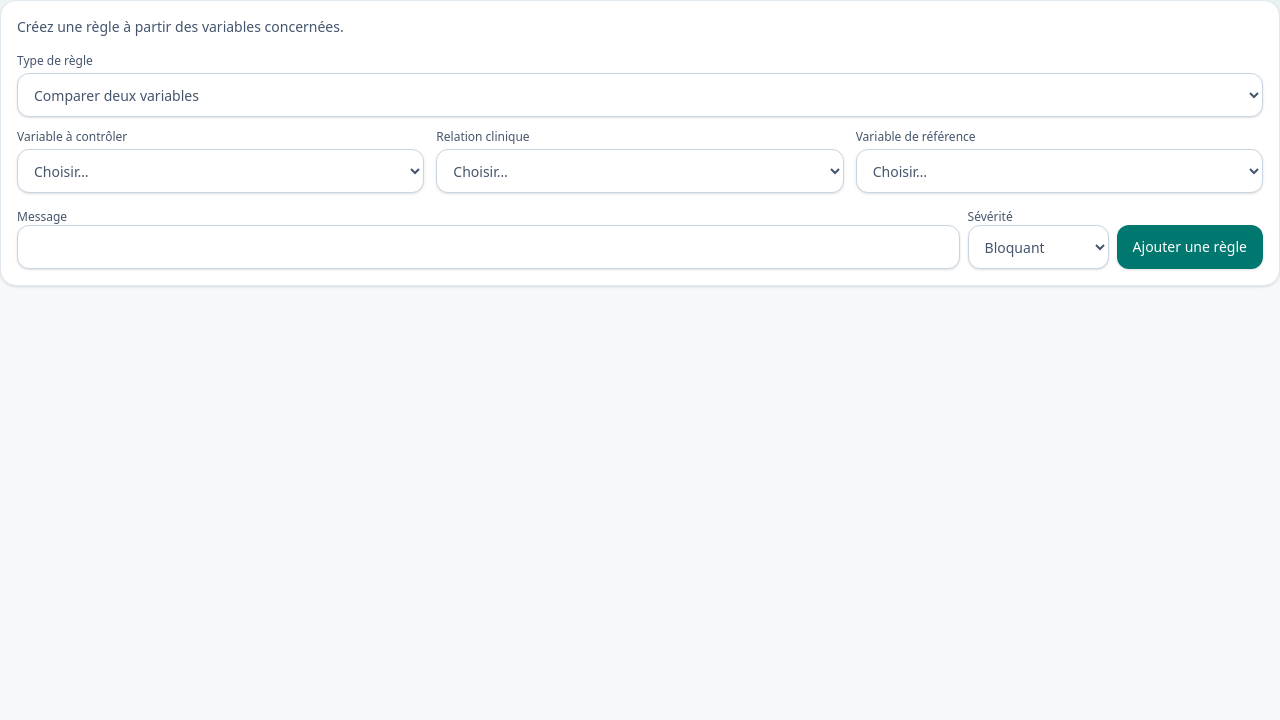
RuleForm — regle d'affichage (L32) › refuse un cycle en nommant les variables, avant tout envoi
Select "N’afficher une variable que sous condition" in the dropdown labelled "Type de règle" at (640, 95), box [17, 73, 1263, 117]
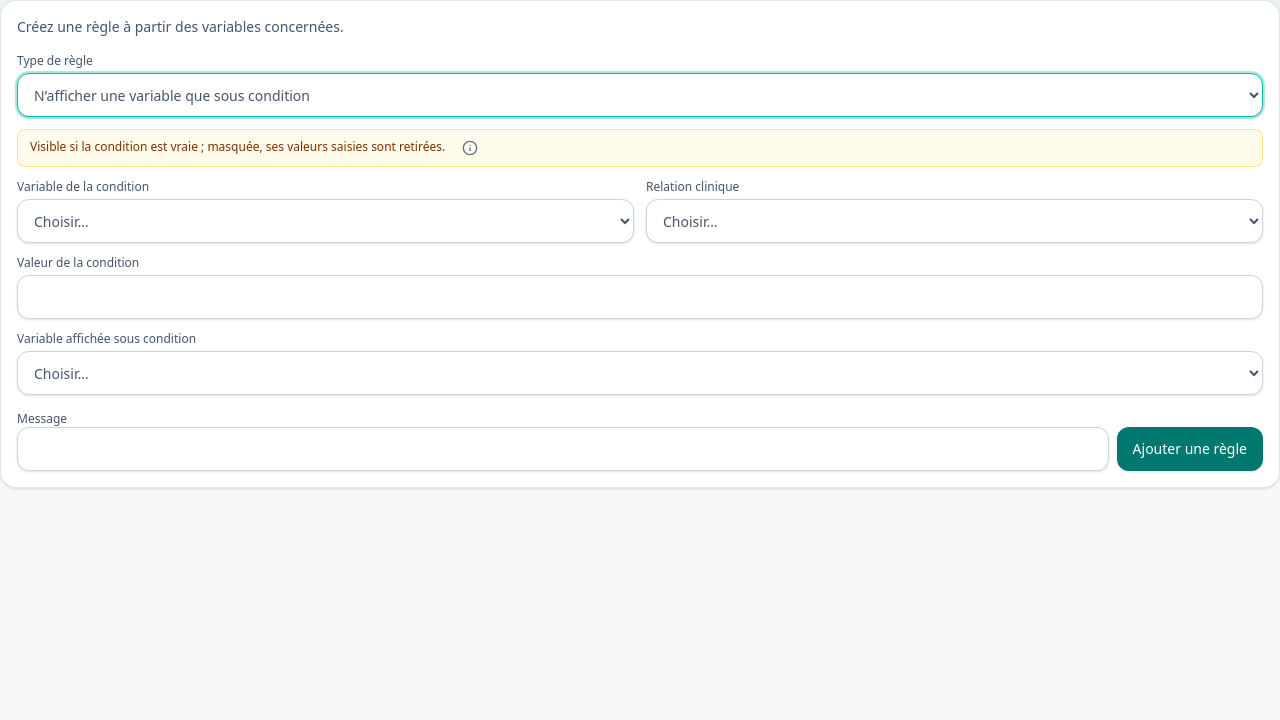
Select "Type d’intervention — Clinique · Choix unique · Visite" in the dropdown named "Variable de la condition" at (326, 221), box [17, 199, 634, 243]
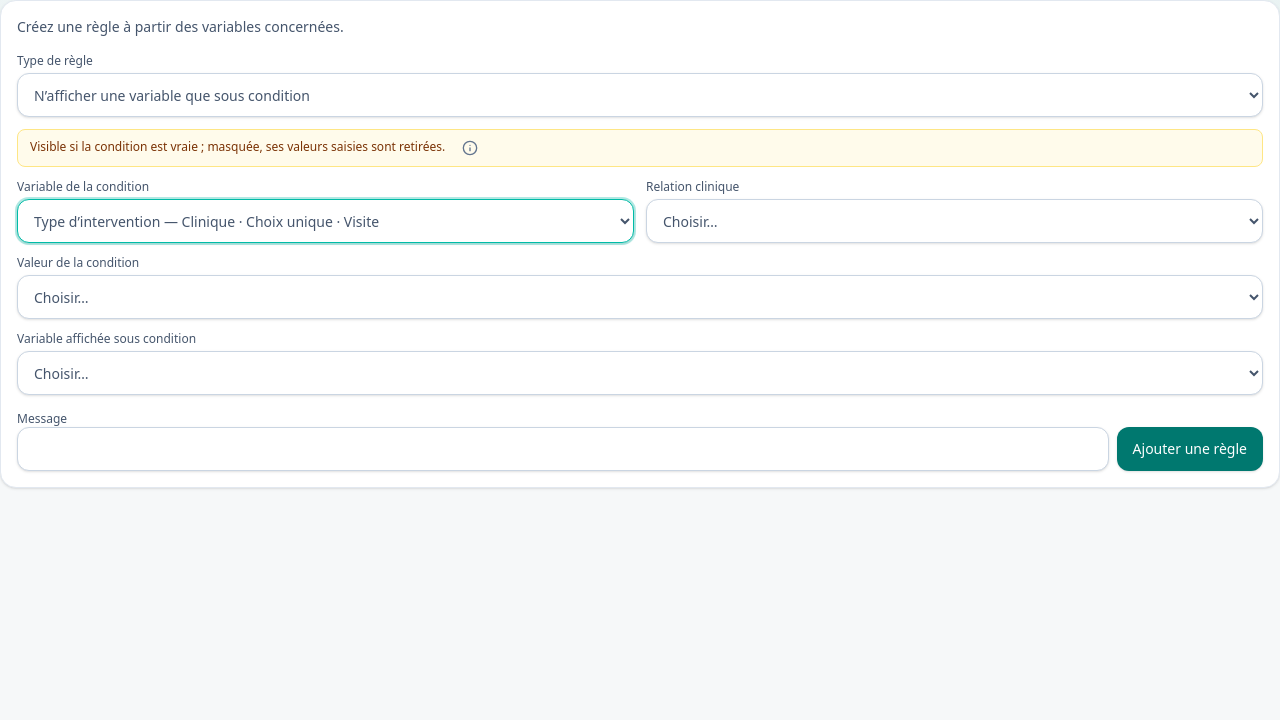
Select "est égal à" in the dropdown labelled "Relation clinique" at (954, 221), box [646, 199, 1263, 243]
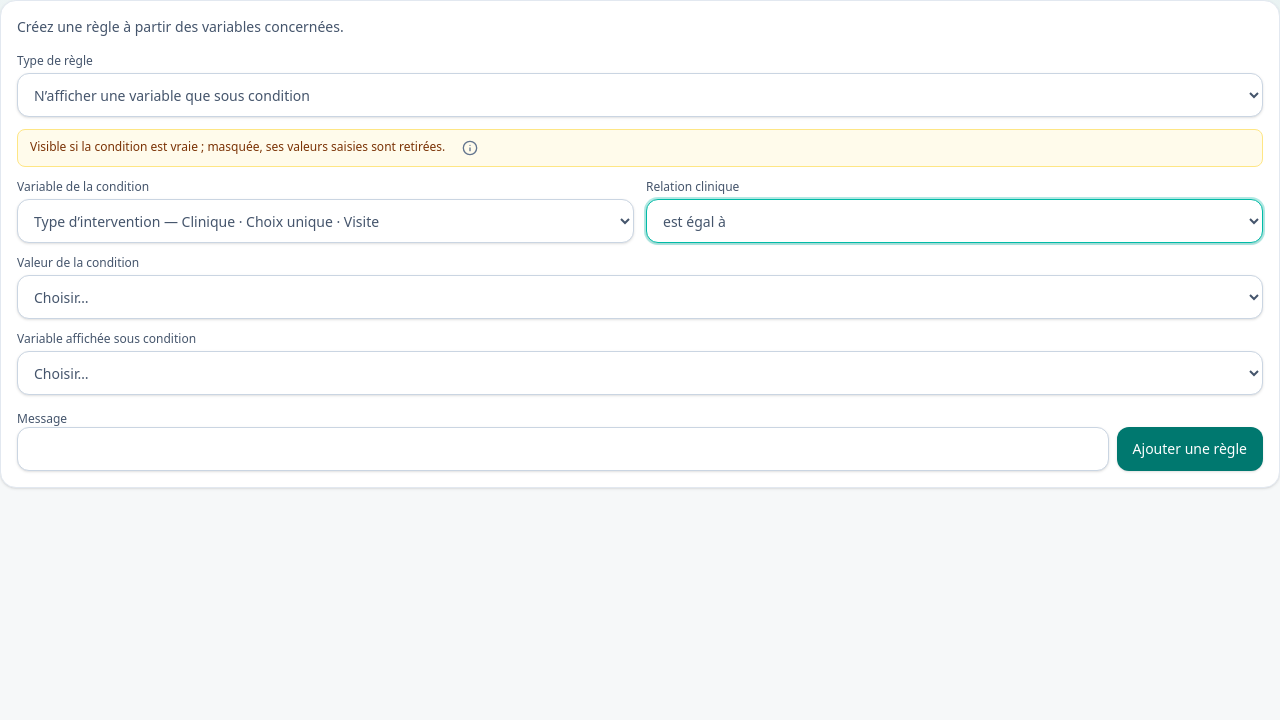
Select "Chirurgie" in the dropdown labelled "Valeur de la condition" at (640, 297), box [17, 275, 1263, 319]
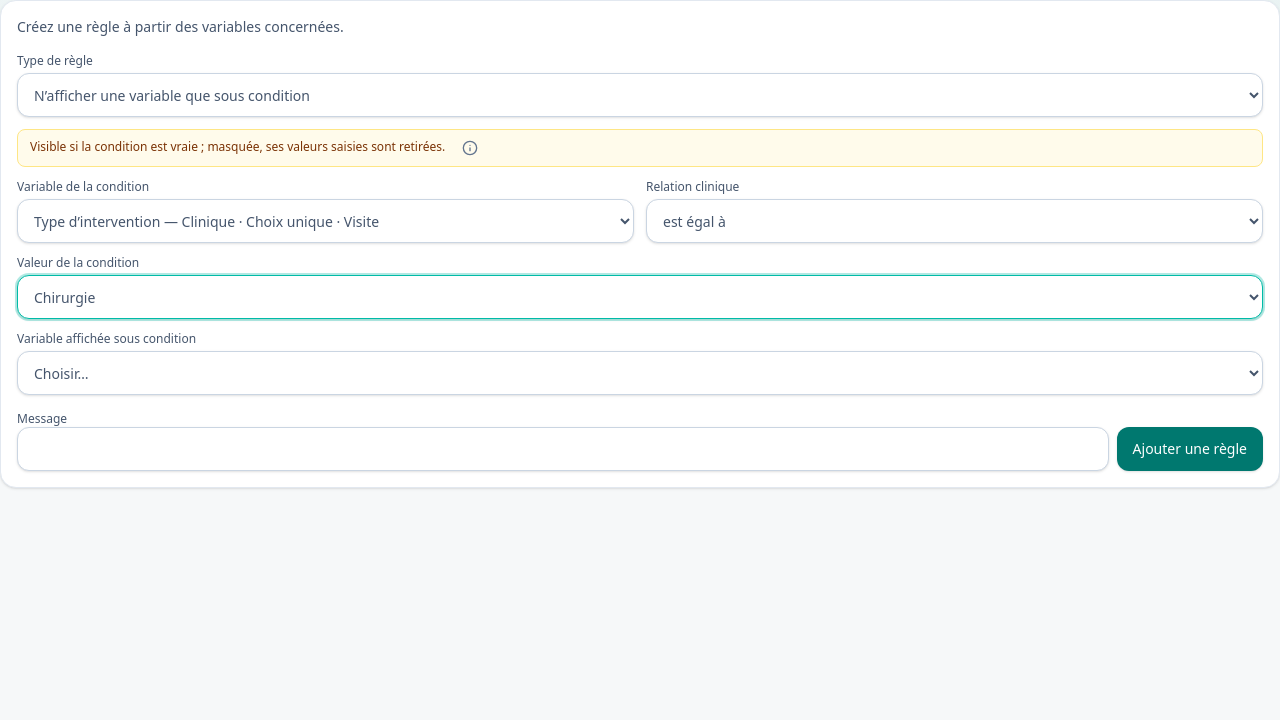
Select "Compte rendu opératoire — Clinique · Texte · Visite" in the dropdown named "Variable affichée sous condition" at (640, 373), box [17, 351, 1263, 395]
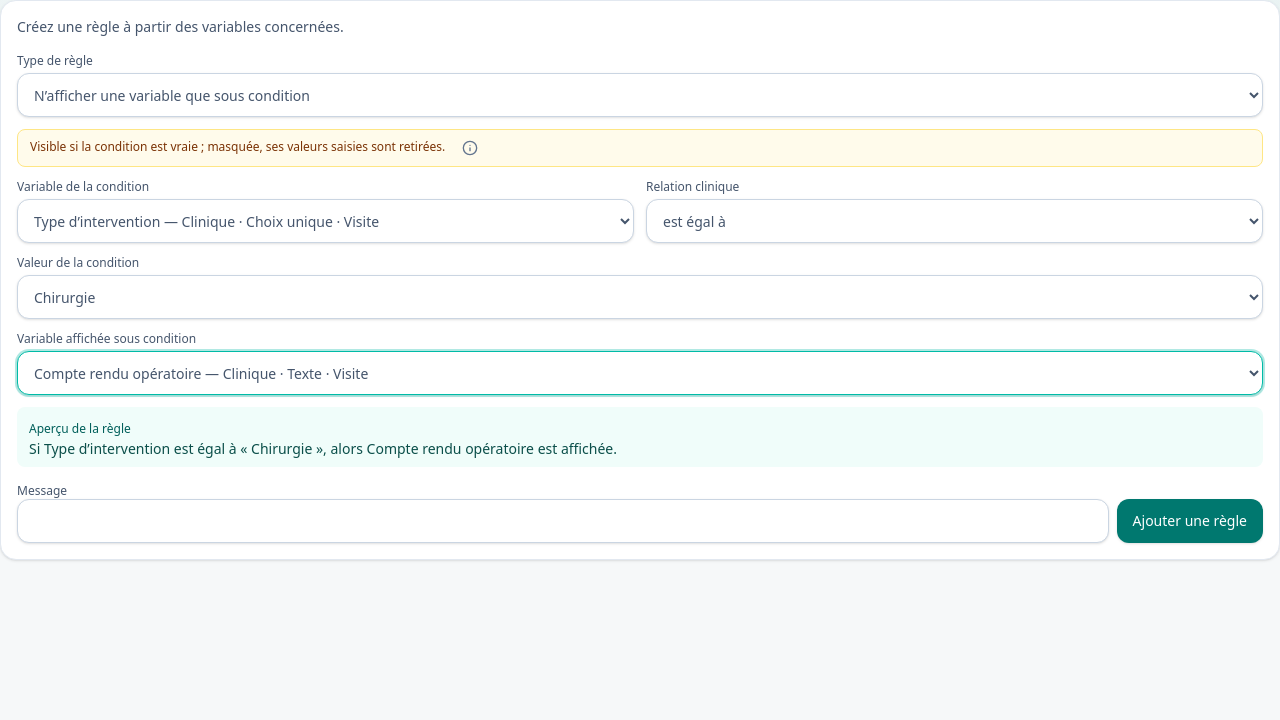
Click the button "Ajouter une règle" at (1190, 521), box [1117, 499, 1263, 543]
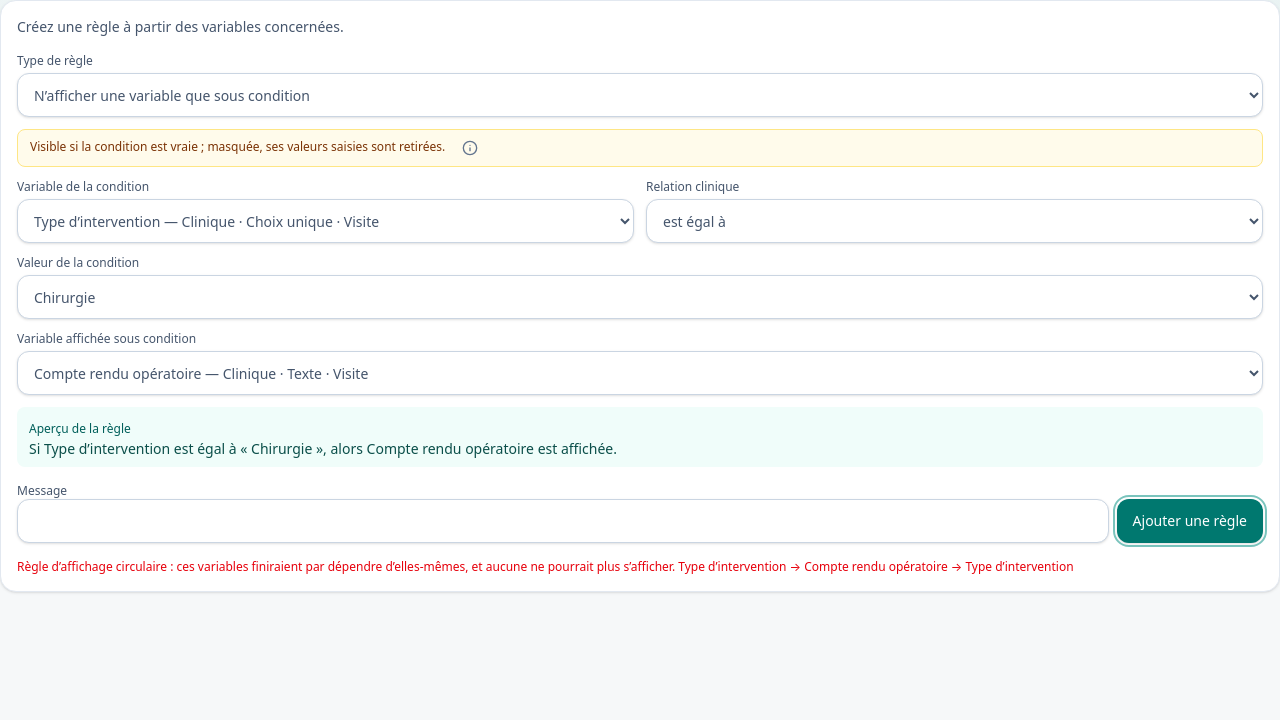
Check: the message shows "circulaire", box [17, 558, 1074, 575]
Check: the message shows "Compte rendu opératoire", box [17, 558, 1074, 575]
